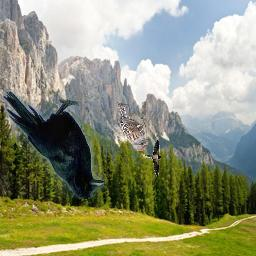Crow: (4, 89, 105, 199)
Sparrow: (118, 103, 149, 152)
Swallow: (143, 139, 162, 178)
